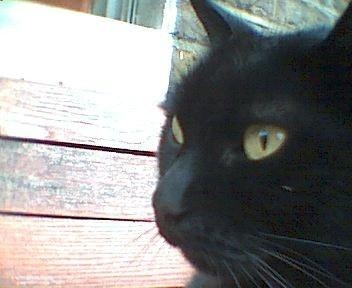cat: (135, 1, 352, 288)
